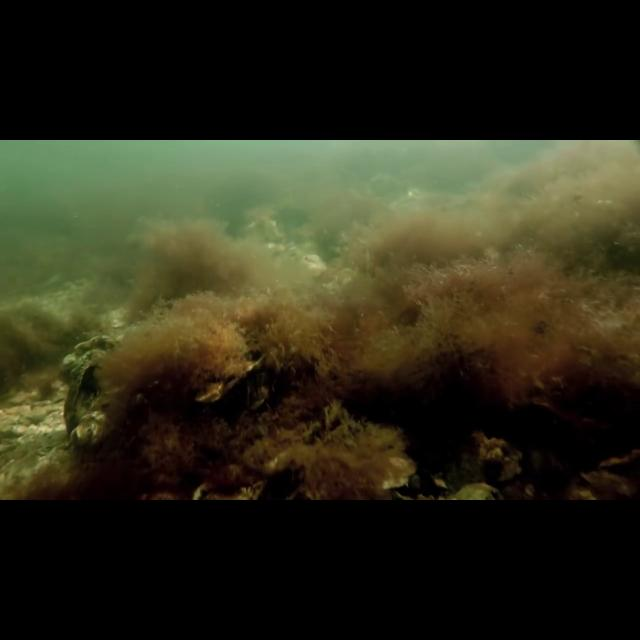Oyster-Closed: (59, 331, 124, 441)
